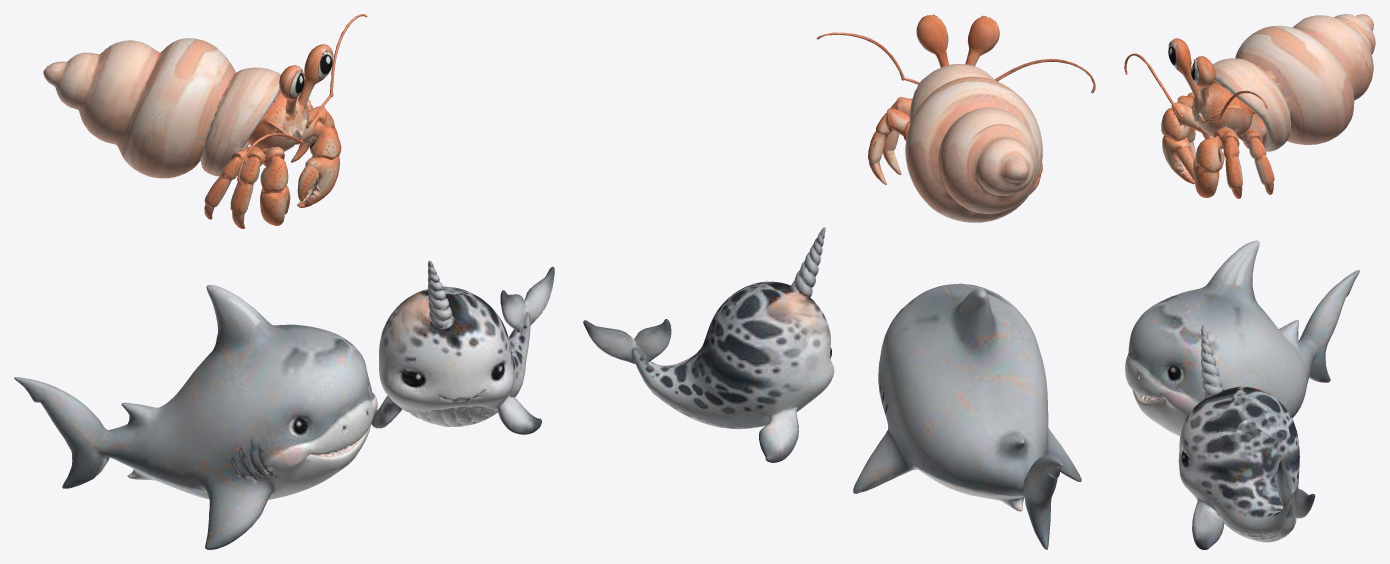
3 views of the same model, side by side, from view 1: azimuth 30°, elevation 25°; view 2: azimuth 150°, elevation 25°; view 3: azimuth 270°, elevation 25° (orthographic). The views are drawn at different scales.
Parts seen in each view (by area): view 1: Mesh 1, Mesh 2, Mesh 5; view 2: Mesh 1, Mesh 5, Mesh 2; view 3: Mesh 2, Mesh 1, Mesh 5.
Boxes of the visible parts, left/top/right/bottom form: Mesh 1: left=14, top=285, right=377, bottom=549; Mesh 2: left=43, top=14, right=367, bottom=228; Mesh 5: left=371, top=260, right=554, bottom=434; Mesh 1: left=853, top=283, right=1081, bottom=549; Mesh 5: left=583, top=227, right=834, bottom=462; Mesh 2: left=816, top=14, right=1095, bottom=222; Mesh 2: left=1124, top=14, right=1375, bottom=198; Mesh 1: left=1125, top=240, right=1359, bottom=436; Mesh 5: left=1178, top=325, right=1315, bottom=549.
Size of the model in its own units: 1.9 by 1.62 by 0.883.
3 materials, 3 textured.
